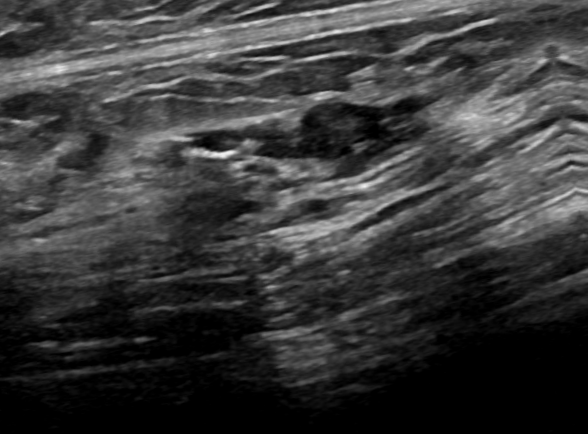Normal: (2, 7, 583, 404)
